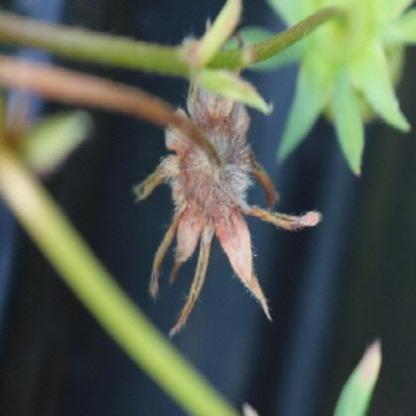Strawberry_Gray_Mold: (131, 81, 324, 338)
